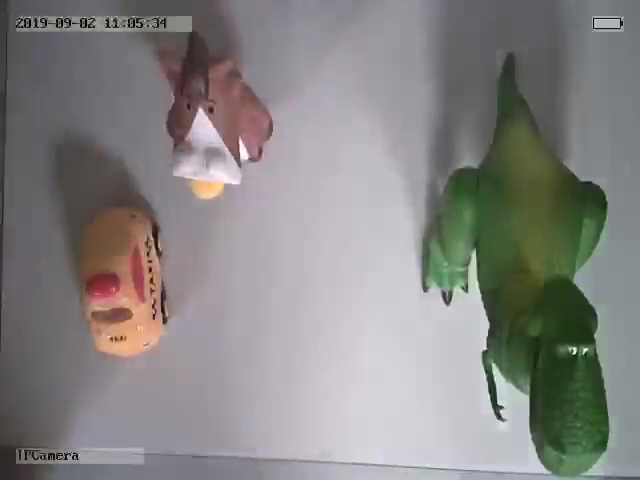car: (76, 202, 172, 360)
horse: (161, 37, 275, 199)
rex: (420, 67, 610, 475)
